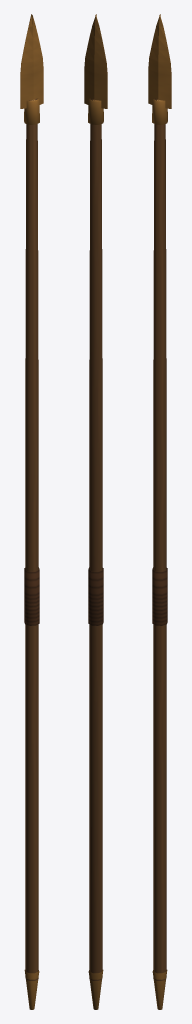
The model's file is lance-dory.glb.
The picture shows the model from 3 angles, left to right: view 1: azimuth 30°, elevation 25°; view 2: azimuth 150°, elevation 25°; view 3: azimuth 330°, elevation 25°; orthographic projection.
Parts seen in each view (by area): view 1: lance-dory; view 2: lance-dory; view 3: lance-dory.
Part boxes in pixels (x1,y1,x2,y2): lance-dory: (20, 14, 43, 1009); lance-dory: (84, 14, 107, 1009); lance-dory: (148, 14, 171, 1009).
Size of the model in its own units: 0.064 by 2.6 by 0.04.
Materials: 1 (1 with a texture image).
